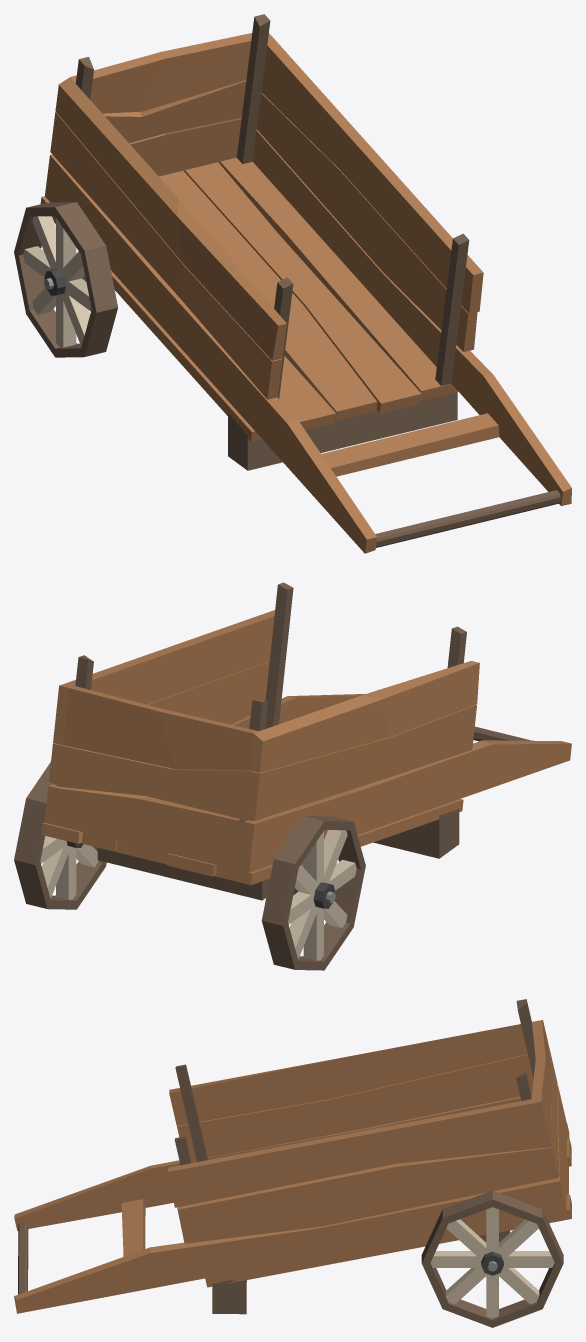
Rendered from Cart_3.fbx.
3 renders of one model, top to bottom at view 1: azimuth 30°, elevation 25°; view 2: azimuth 150°, elevation 25°; view 3: azimuth 270°, elevation 25°, orthographic. The views are drawn at different scales.
Visible parts, largest first — view 1: Cart_3; view 2: Cart_3; view 3: Cart_3.
Part boxes in pixels (x1,y1,x2,y2): Cart_3: [14, 14, 571, 553]; Cart_3: [14, 582, 571, 970]; Cart_3: [14, 999, 571, 1327].
Bounding box in the file's own units: 168 × 329 × 152.
